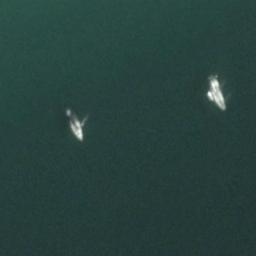boat: (206, 70, 228, 112), (64, 106, 84, 143)
